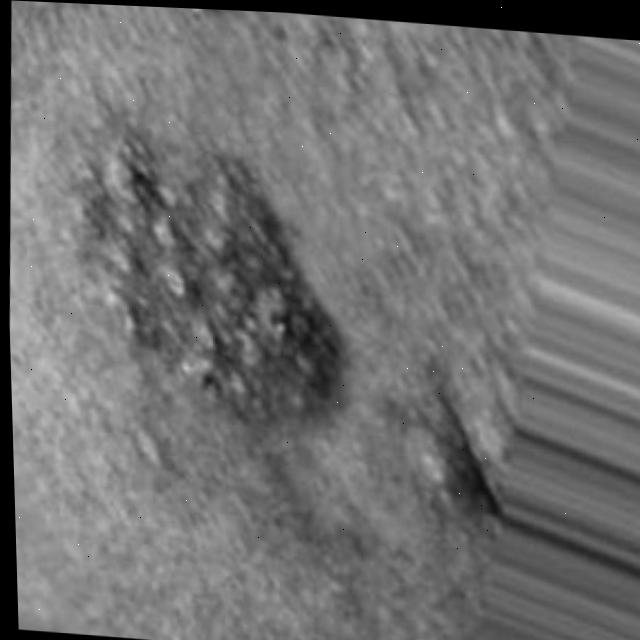Shingles: (91, 144, 338, 431), (418, 432, 483, 534)
